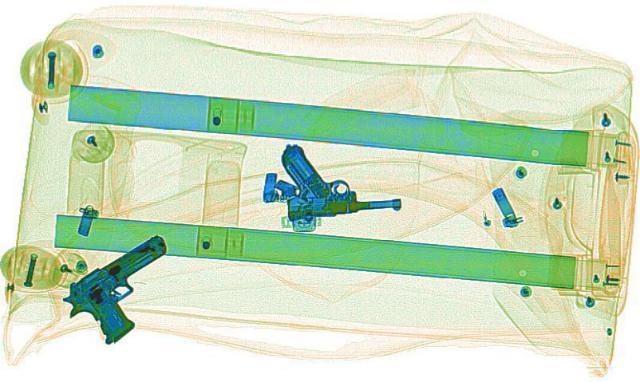Gun: (30, 231, 232, 344), (270, 138, 402, 218)
